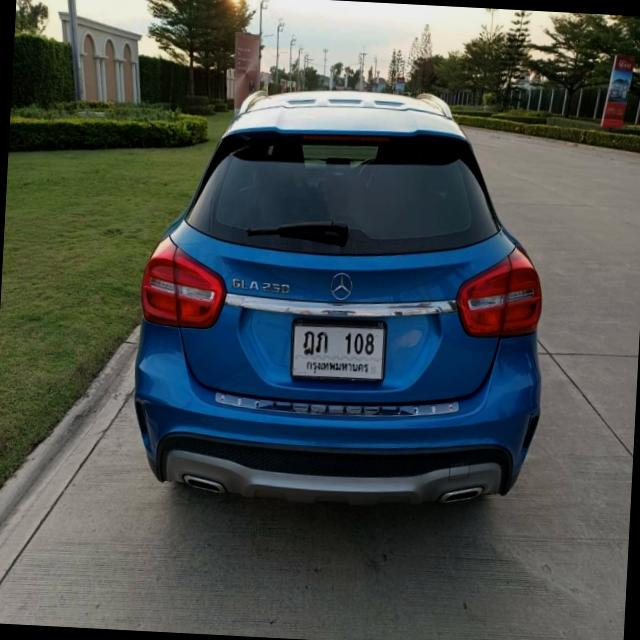license_plate: (289, 316, 390, 384)
